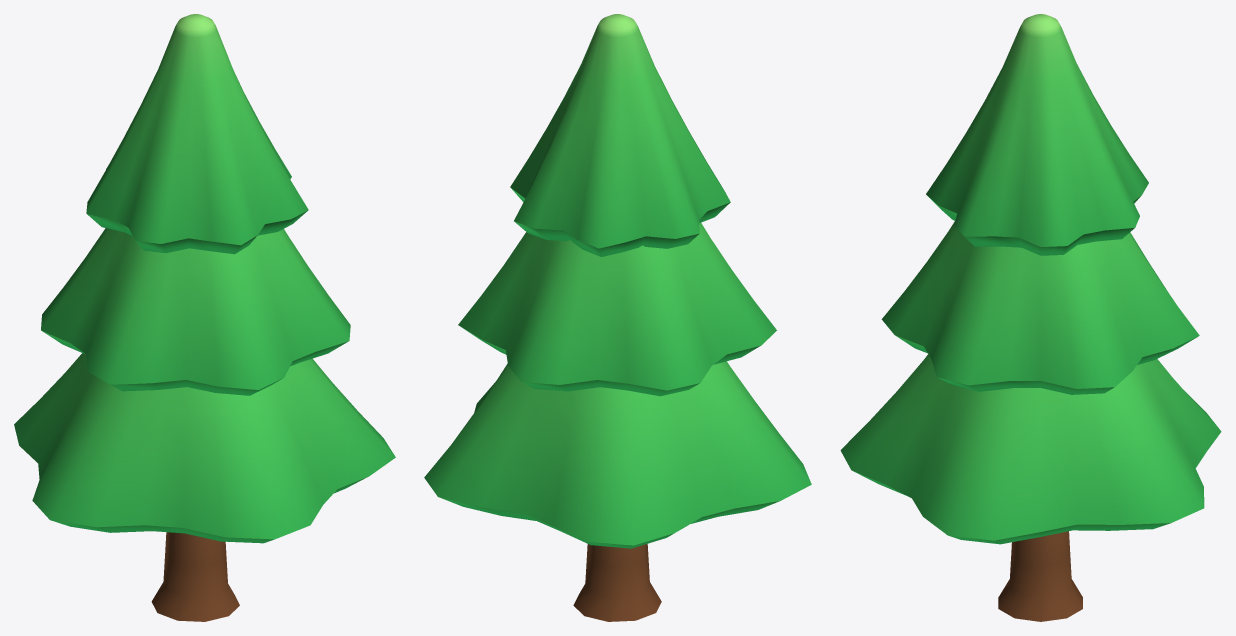
File: pine_trio.glb
The picture shows the model from 3 angles, left to right: view 1: azimuth 30°, elevation 25°; view 2: azimuth 150°, elevation 25°; view 3: azimuth 270°, elevation 25°; orthographic projection.
Parts seen in each view (by area): view 1: pine_trio; view 2: pine_trio; view 3: pine_trio.
Boxes of the visible parts, box(x1,y1,x2,y2) form: pine_trio: box(14, 14, 395, 621); pine_trio: box(424, 14, 811, 621); pine_trio: box(840, 14, 1221, 621).
Bounding box in the file's own units: 14.66 × 24.54 × 14.49.
1 material, 1 textured.
